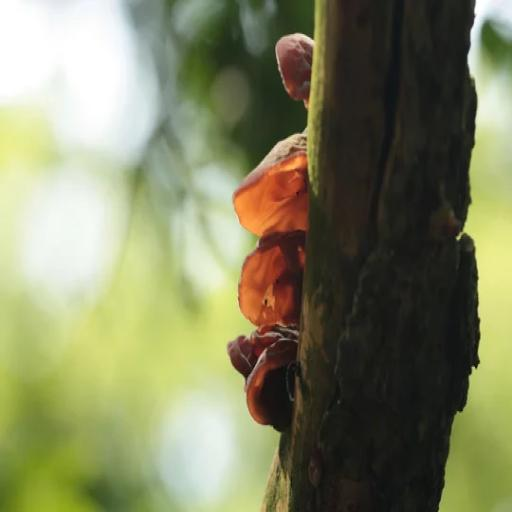Wood Ear Mushroom: (217, 325, 297, 437), (228, 130, 314, 233), (232, 235, 308, 328), (264, 31, 320, 102)
